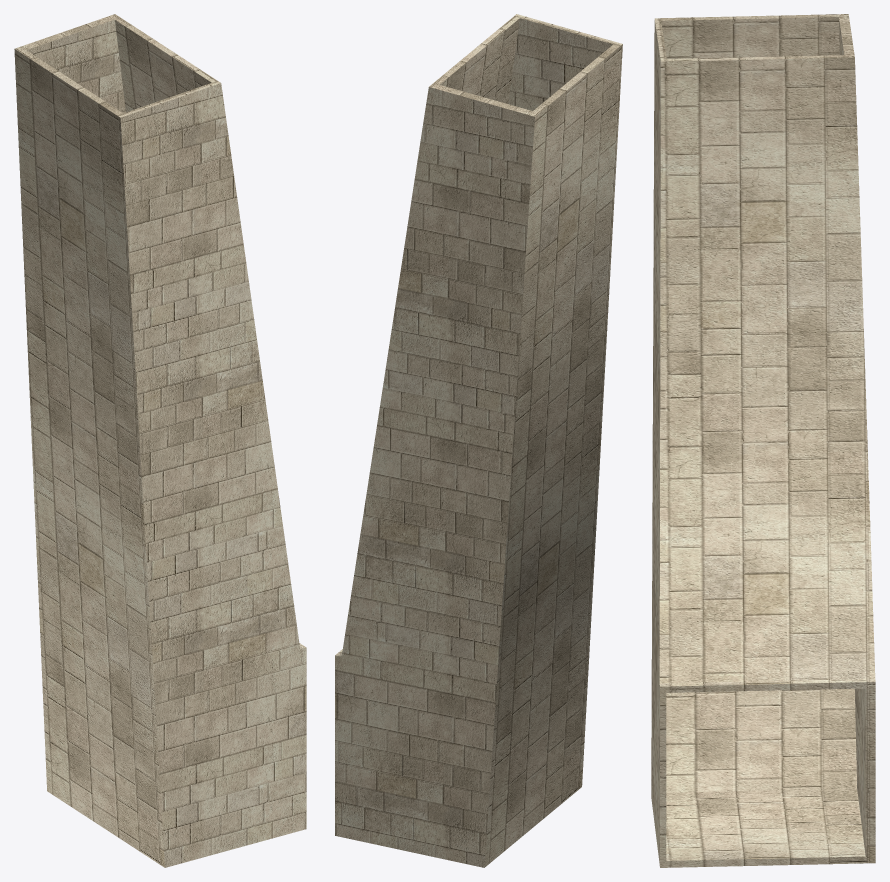
The model's file is walls_116.fbx.
The picture shows the model from 3 angles, left to right: view 1: azimuth 30°, elevation 25°; view 2: azimuth 150°, elevation 25°; view 3: azimuth 270°, elevation 25°; orthographic projection.
Visible parts, largest first — view 1: walls_116; view 2: walls_116; view 3: walls_116.
Part boxes in pixels (x1,y1,x2,y2): walls_116: (14, 14, 306, 867); walls_116: (335, 14, 622, 867); walls_116: (651, 14, 875, 867).
Bounding box in the file's own units: 307 × 1139 × 303.
